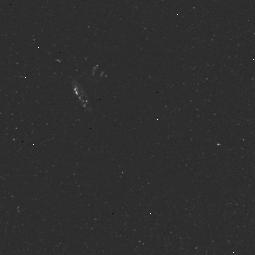proba_3_ocs: (66, 57, 118, 112)
